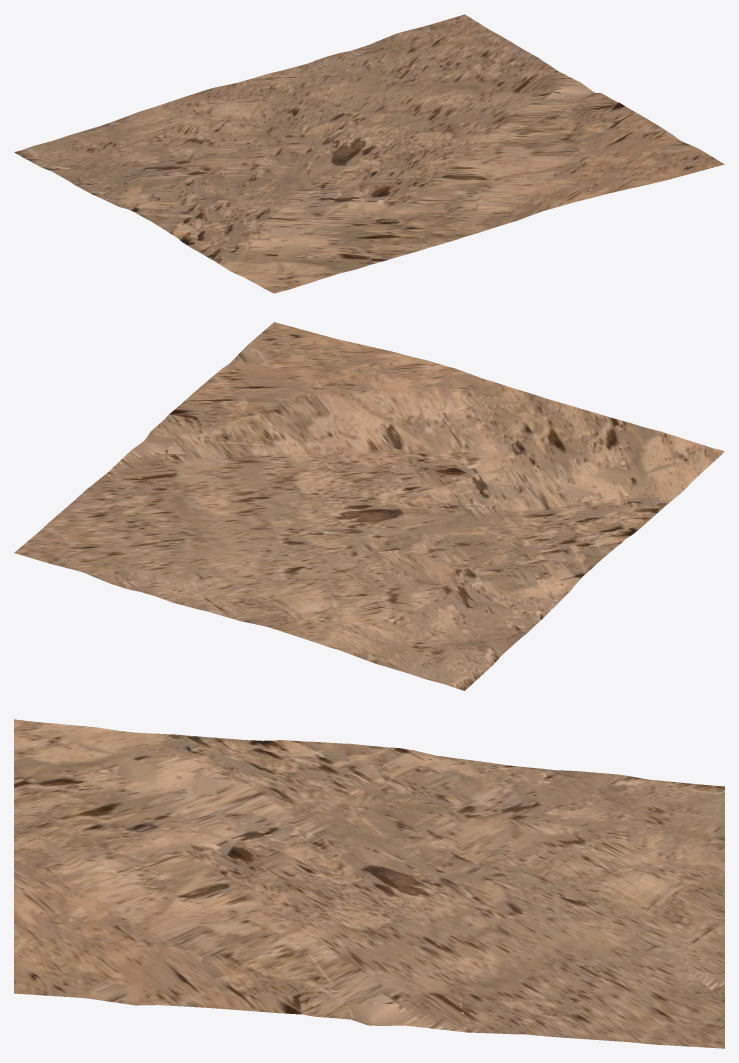
3 renders of one model, top to bottom at view 1: azimuth 30°, elevation 25°; view 2: azimuth 150°, elevation 25°; view 3: azimuth 270°, elevation 25°, orthographic. The views are drawn at different scales.
Size of the model in its own units: 8.36 by 1.21 by 8.36.
2 materials, 2 textured.
